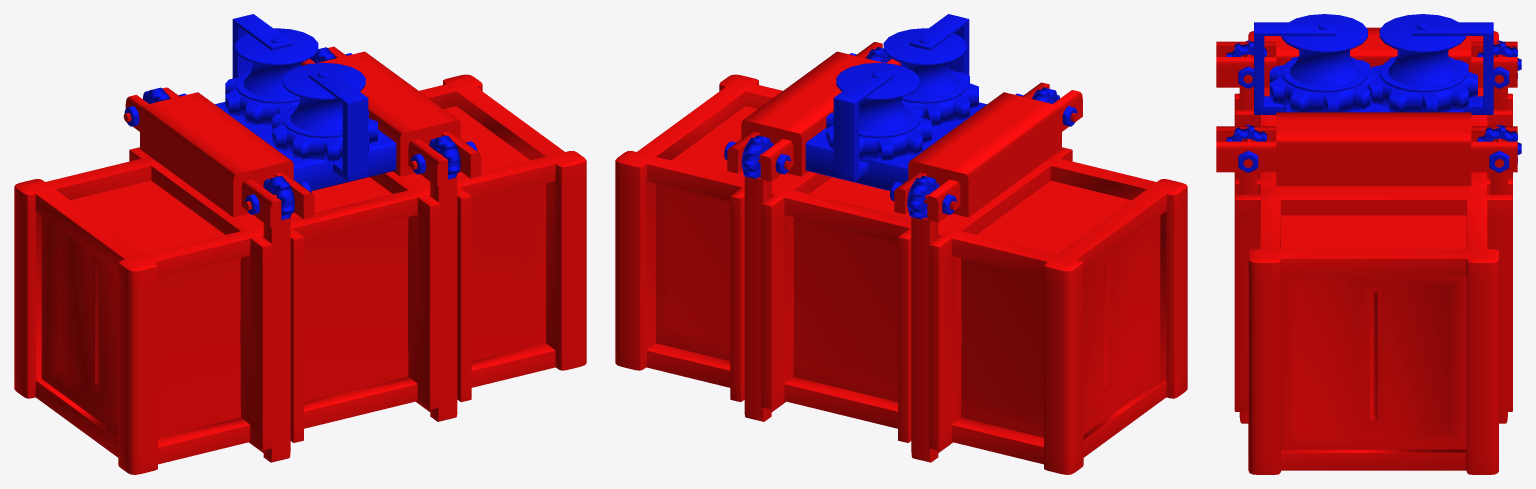
Rendered from main_Stage1Train001.fbx.
3 renders of one model, left to right at view 1: azimuth 30°, elevation 25°; view 2: azimuth 150°, elevation 25°; view 3: azimuth 270°, elevation 25°, orthographic. The views are drawn at different scales.
Parts seen in each view (by area): view 1: main_Stage1TrainBody001, main_Stage1TrainWheel001, main_Stage1TrainWheel002; view 2: main_Stage1TrainBody001, main_Stage1TrainWheel002, main_Stage1TrainWheel001; view 3: main_Stage1TrainBody001, main_Stage1TrainWheel002, main_Stage1TrainWheel001.
Boxes of the visible parts, x1,y1,x2,y2 form: main_Stage1TrainBody001: (14,14,586,474); main_Stage1TrainWheel001: (272,62,377,161); main_Stage1TrainWheel002: (225,28,318,125); main_Stage1TrainBody001: (615,14,1187,474); main_Stage1TrainWheel002: (826,62,931,160); main_Stage1TrainWheel001: (883,28,978,126); main_Stage1TrainBody001: (1216,22,1521,474); main_Stage1TrainWheel002: (1368,14,1477,112); main_Stage1TrainWheel001: (1269,14,1377,112).
Bounding box in the file's own units: 12.64 × 8.92 × 7.02.
